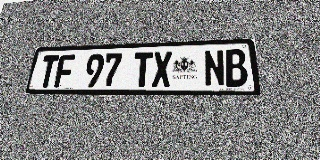7: (101, 53, 122, 87)
9: (83, 54, 105, 87)
B: (224, 49, 248, 87)
F: (54, 55, 75, 87)
N: (203, 50, 226, 87)
T: (132, 52, 153, 87), (37, 55, 59, 87)
X: (152, 51, 172, 87)
